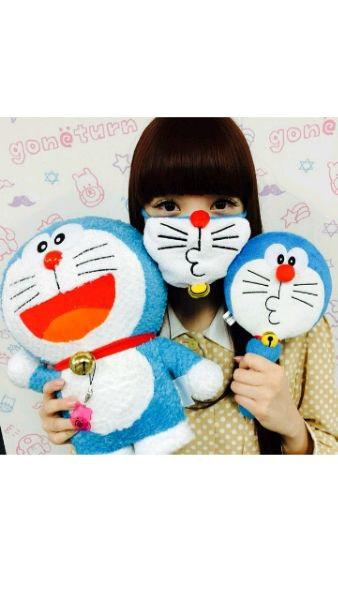OK: (144, 174, 259, 289)
